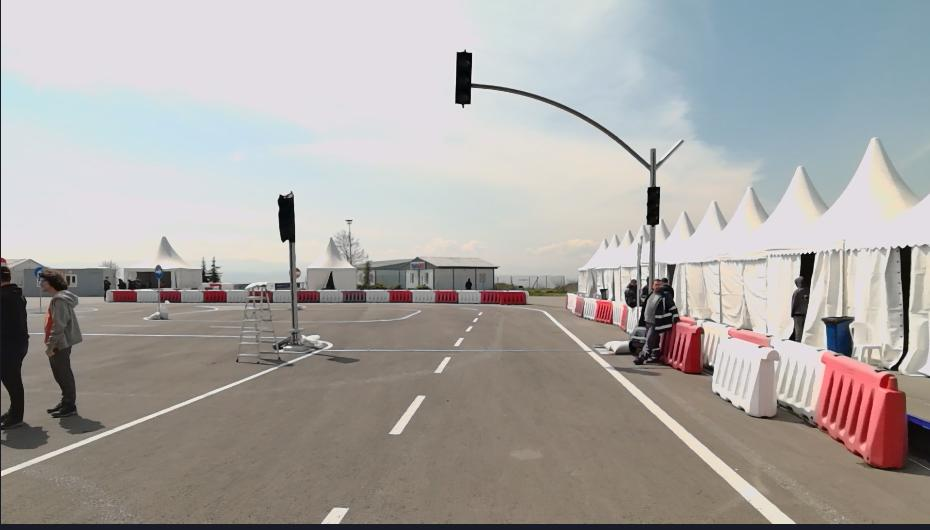nesne: (0, 298, 800, 529), (0, 306, 485, 527), (315, 307, 798, 527), (549, 313, 794, 528), (0, 338, 334, 478), (657, 318, 904, 464), (472, 78, 689, 187), (803, 352, 904, 465), (36, 267, 78, 414), (707, 335, 774, 413), (627, 276, 684, 358), (0, 259, 28, 425), (775, 336, 827, 414), (236, 279, 283, 363), (299, 286, 529, 303), (659, 324, 705, 374), (390, 390, 426, 432), (823, 311, 855, 354), (452, 43, 472, 111), (790, 273, 810, 338), (700, 322, 728, 366), (902, 419, 928, 464), (80, 330, 239, 337), (277, 188, 295, 242), (290, 239, 298, 345), (727, 327, 769, 346), (644, 183, 663, 224), (325, 498, 352, 523), (479, 290, 529, 303), (594, 335, 628, 354), (296, 331, 321, 351), (594, 298, 613, 323), (624, 276, 638, 306), (581, 296, 598, 319), (434, 352, 454, 371), (108, 289, 137, 301), (201, 290, 227, 303), (133, 288, 157, 302), (267, 289, 291, 303), (365, 289, 389, 303), (618, 303, 630, 331), (456, 289, 481, 302), (180, 289, 203, 303), (433, 290, 457, 303), (297, 289, 319, 303), (318, 289, 342, 301), (610, 301, 622, 325), (340, 291, 368, 301), (409, 291, 432, 303), (389, 290, 414, 301), (226, 288, 247, 301), (564, 292, 577, 313), (160, 289, 181, 301), (151, 264, 164, 279), (128, 277, 144, 289), (572, 294, 582, 313), (157, 278, 161, 319), (104, 274, 111, 296), (597, 286, 612, 296), (142, 309, 157, 318), (454, 333, 465, 345), (115, 276, 125, 287), (160, 311, 168, 318)
